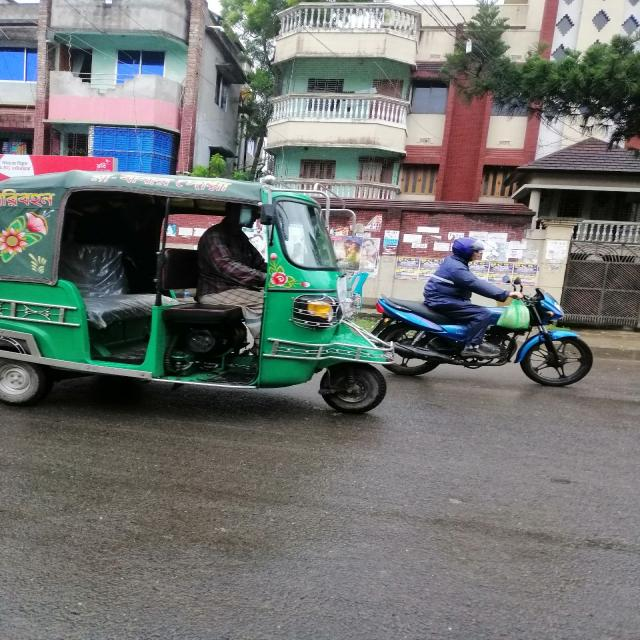Motorbike: (372, 288, 594, 400)
